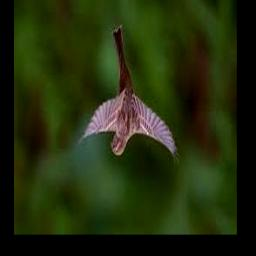Sparrow: (76, 25, 179, 165)
